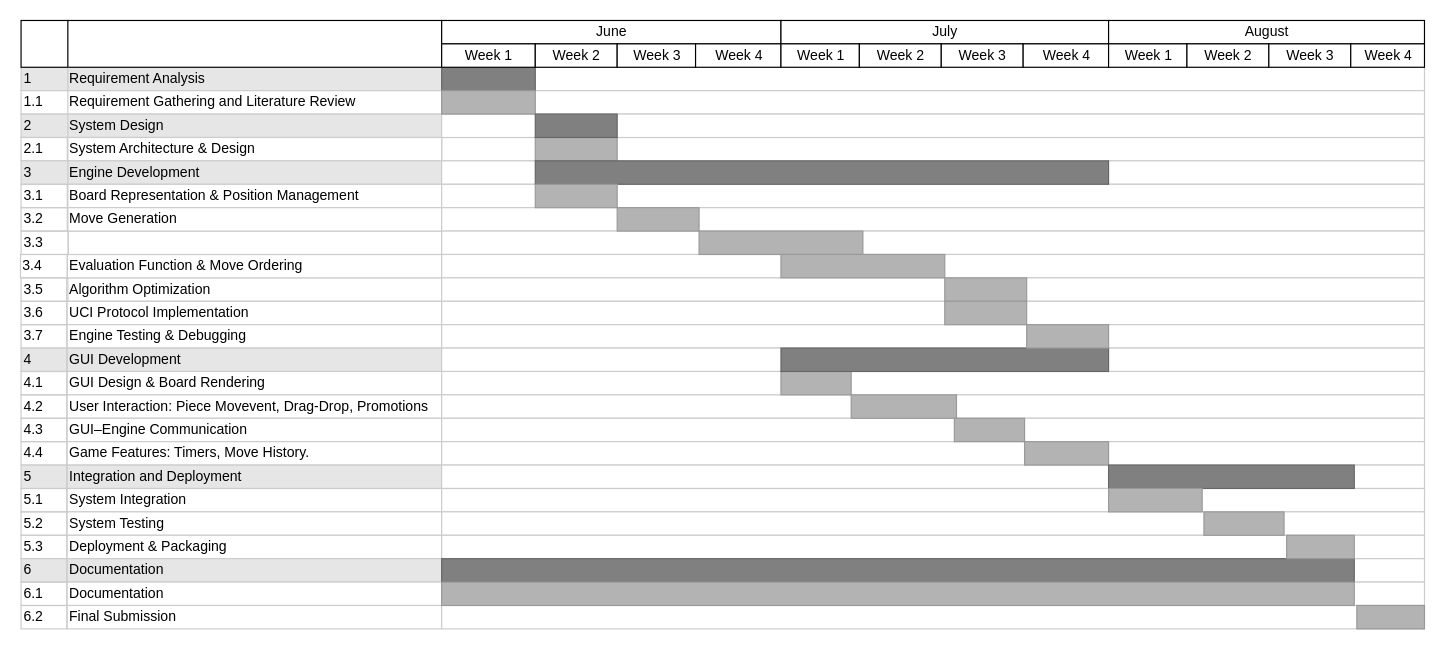
This 1445x649 diagram has some shape labels left out. The shapes that lost their labels are listed below. From the top down, each one's centre as x and y in pixels, then its label:
the point at 254,43: Tasks
the point at 254,242: Search Algorithm Implementation
